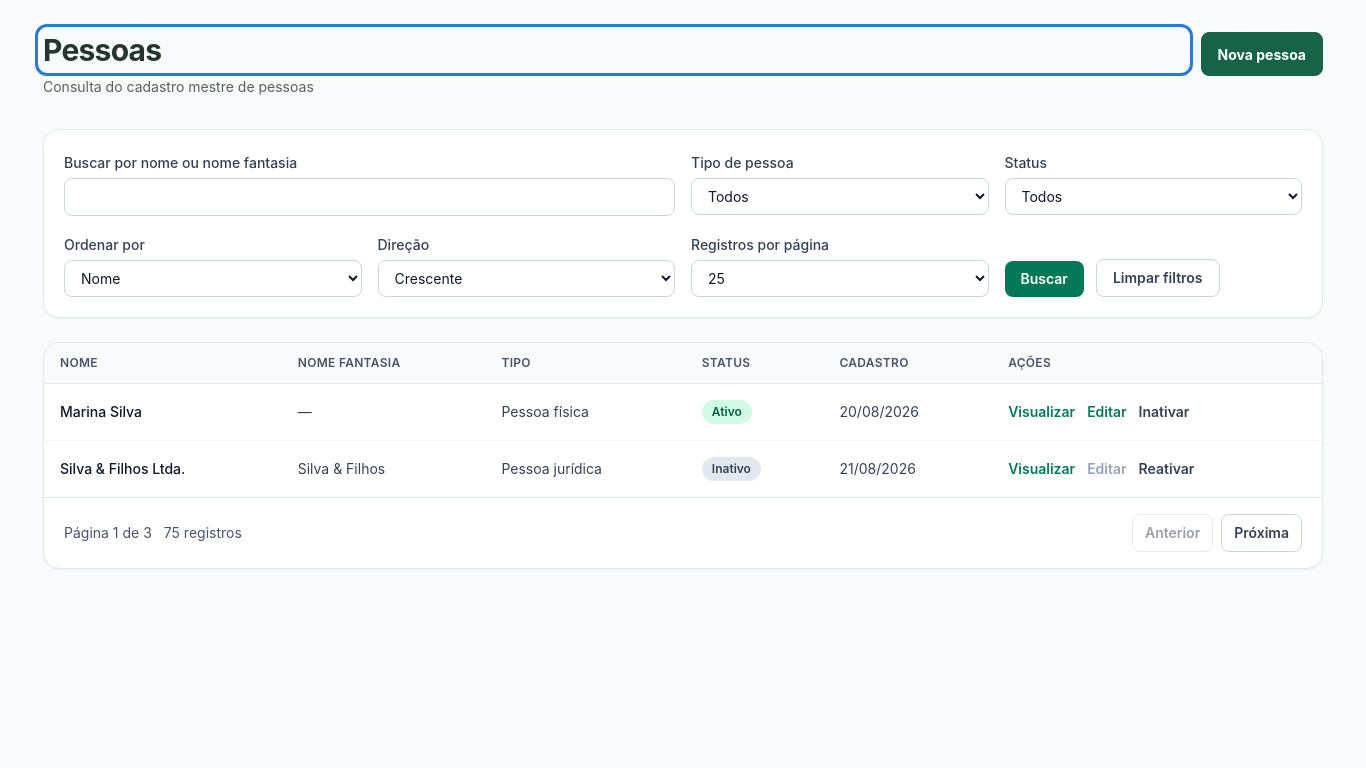
Test: PeopleListPage › navega para próxima e anterior preservando os parâmetros
Expected: the text "Marina Silva" is shown, [44,384,282,440]
Expected: the button "Anterior" is disabled, [1132,514,1213,552]
Click the button "Próxima".
click(1262, 533)  # box [1221,514,1302,552]
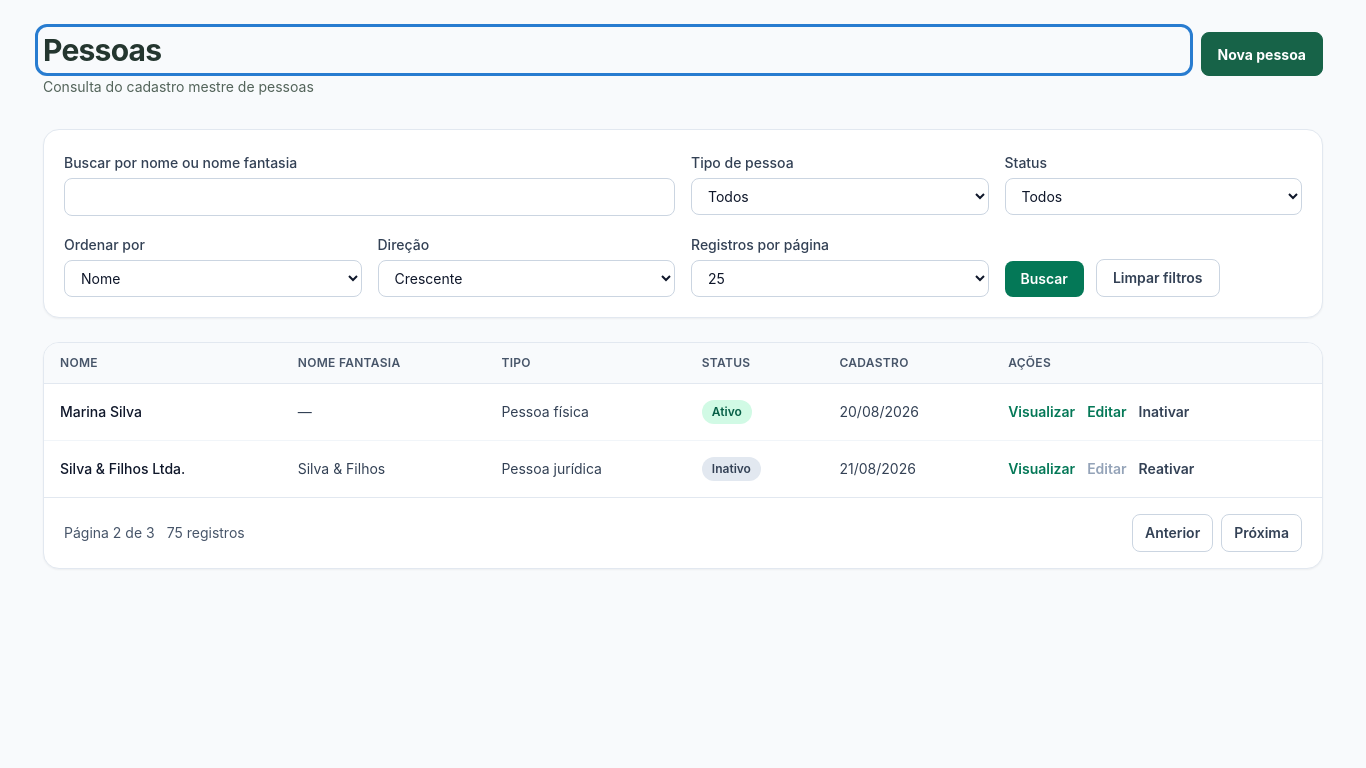
Now the text "Página 2 de 3" is shown, box [64,523,155,543]
Click the button "Anterior".
click(1173, 533)  # box [1132,514,1213,552]
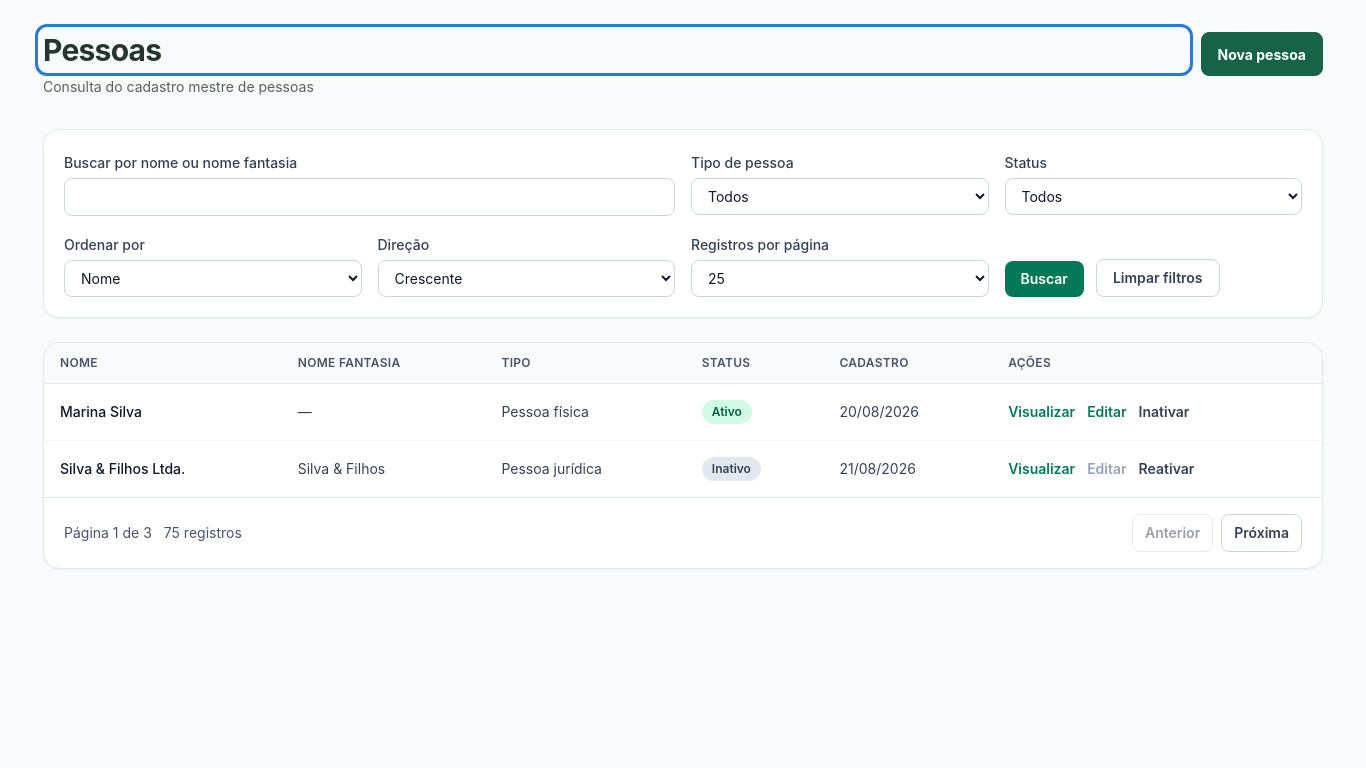
Now the text "Página 1 de 3" is shown, box [64,523,152,543]
Now the button "Anterior" is disabled, box [1132,514,1213,552]
